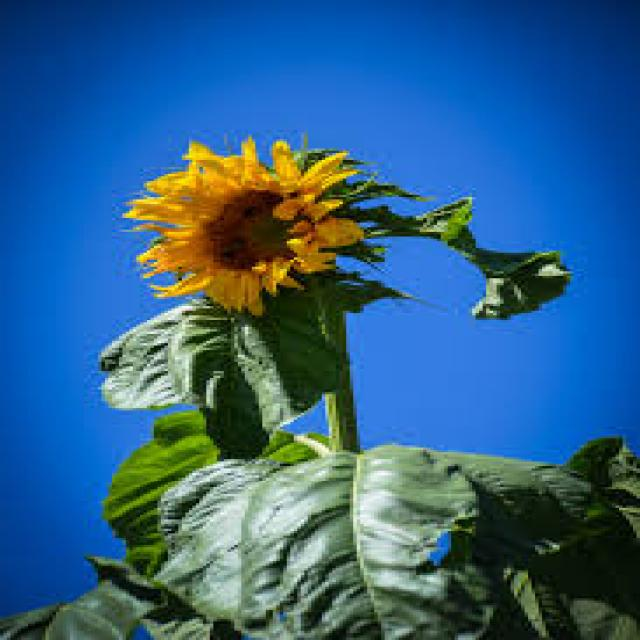sunflower: (123, 122, 383, 328)
